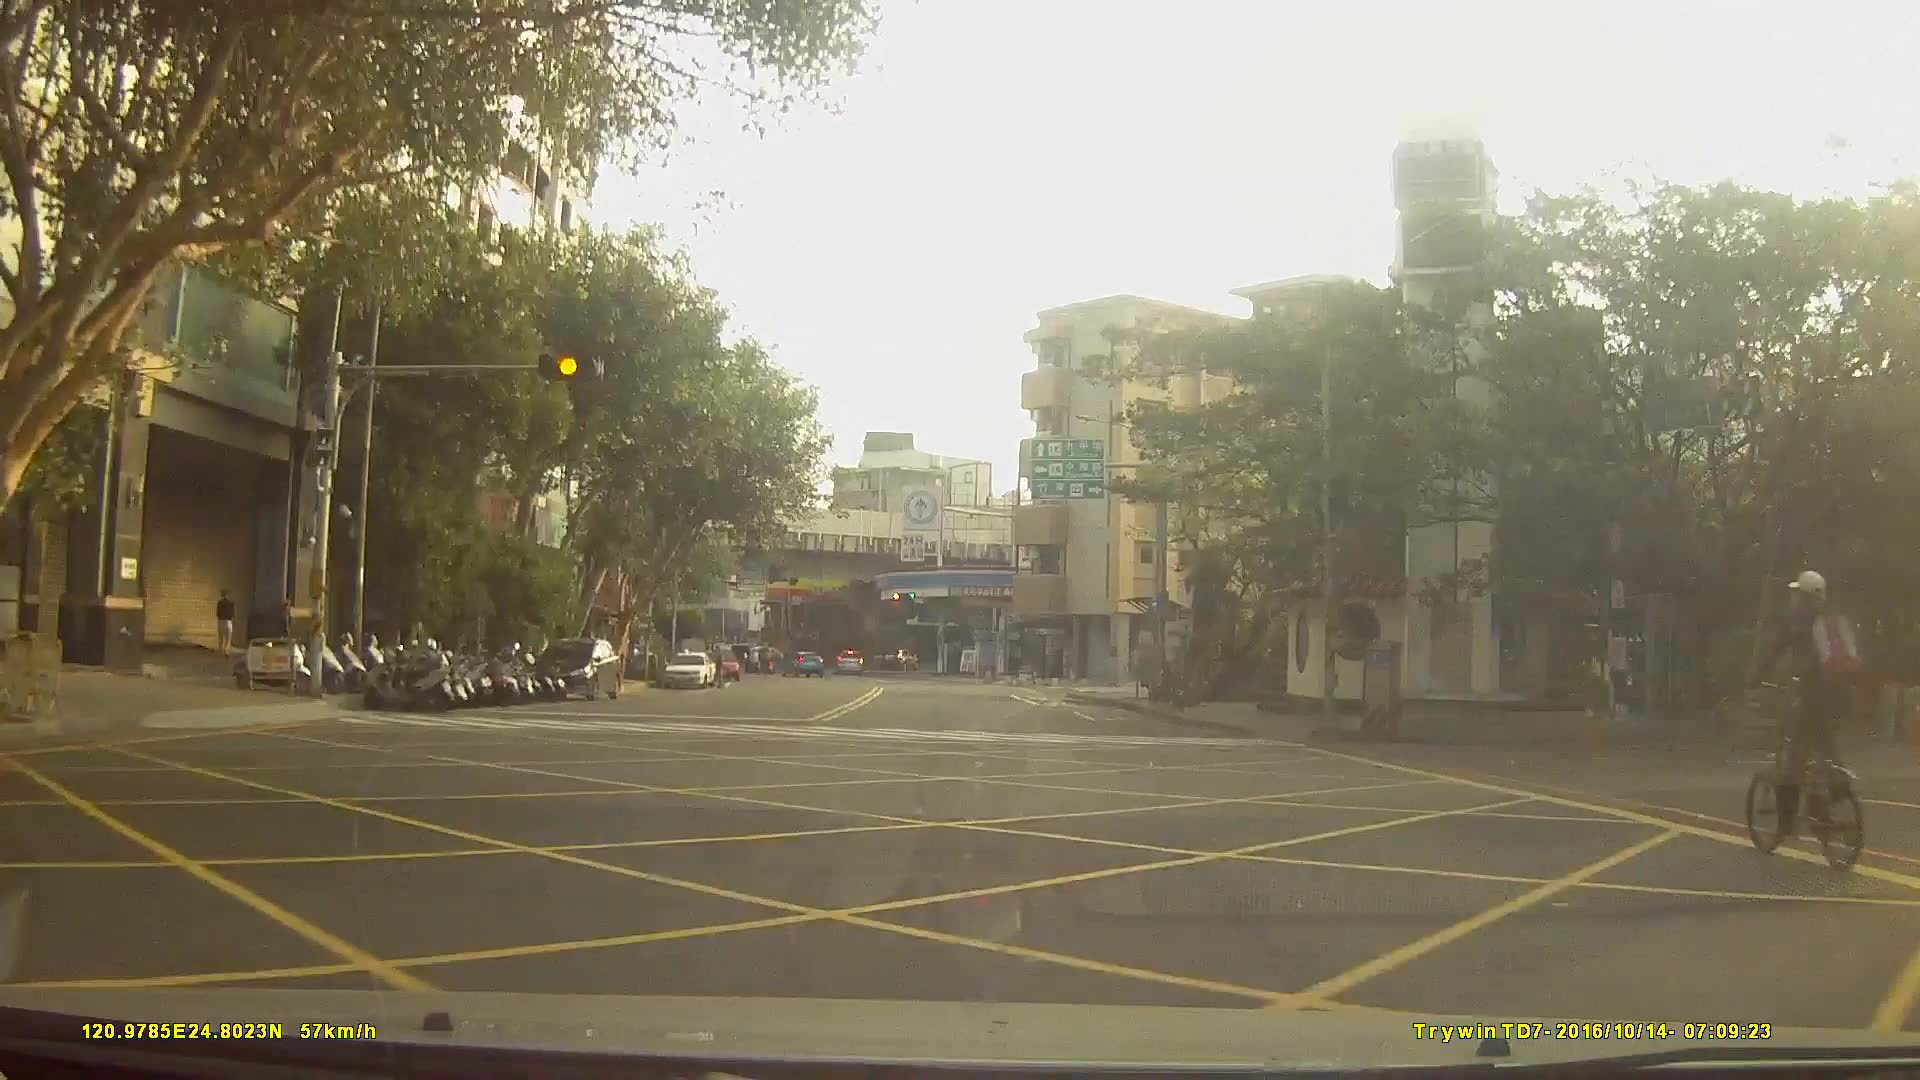pedestrian: (217, 582, 238, 653)
rider: (1738, 571, 1871, 870)
vehicle: (530, 632, 621, 697), (659, 645, 714, 685), (698, 643, 741, 679), (782, 647, 822, 676), (833, 642, 863, 670)
